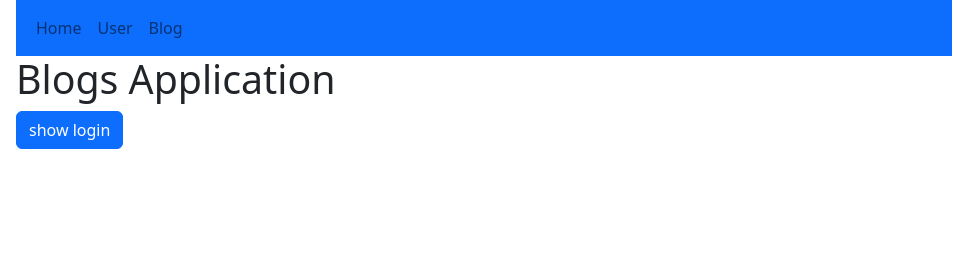
Scenario: Blog app › application displays the login form by default.
The width and height of the screenshot is (969, 280).
Expected: the heading "Blogs Application" is shown, [16, 52, 335, 106]
Click the button "show login": coordinates (70, 130) [16, 111, 123, 149]
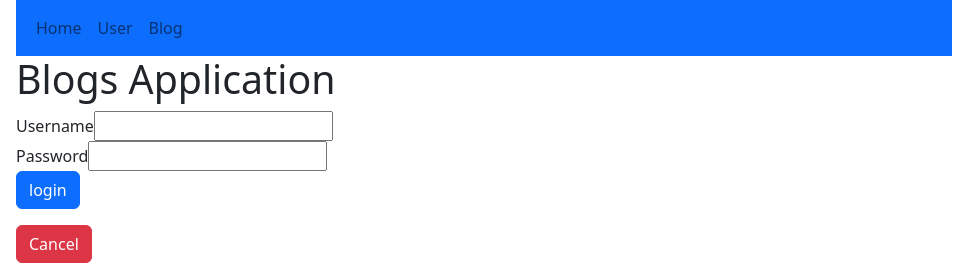
Expected: the button "login" is shown, [16, 171, 80, 209]
Expected: the field with id "username" is shown, [94, 111, 333, 141]
Expected: the password field is shown, [88, 141, 327, 171]
